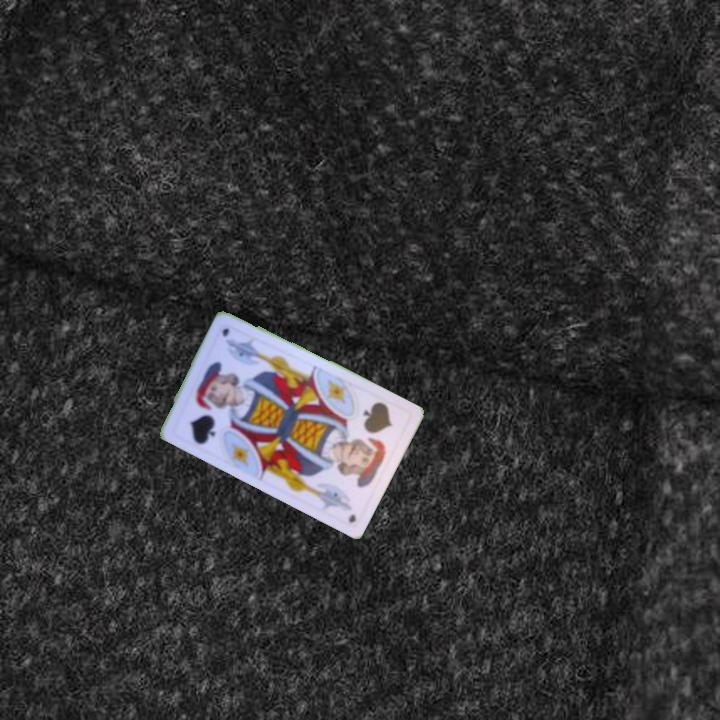s_j.png: (332, 388, 412, 473), (168, 372, 248, 456)
